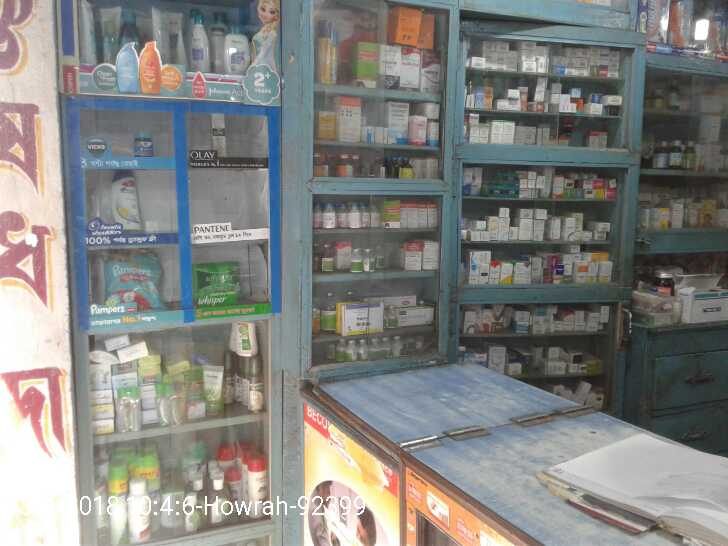vicks: (132, 131, 154, 161)
